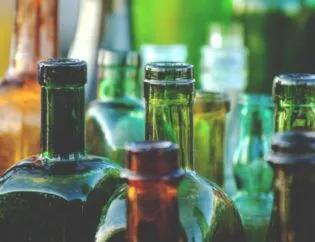glass: (0, 58, 128, 242), (188, 90, 273, 242), (123, 143, 187, 242), (271, 130, 315, 242), (142, 62, 195, 145), (272, 70, 315, 128)
